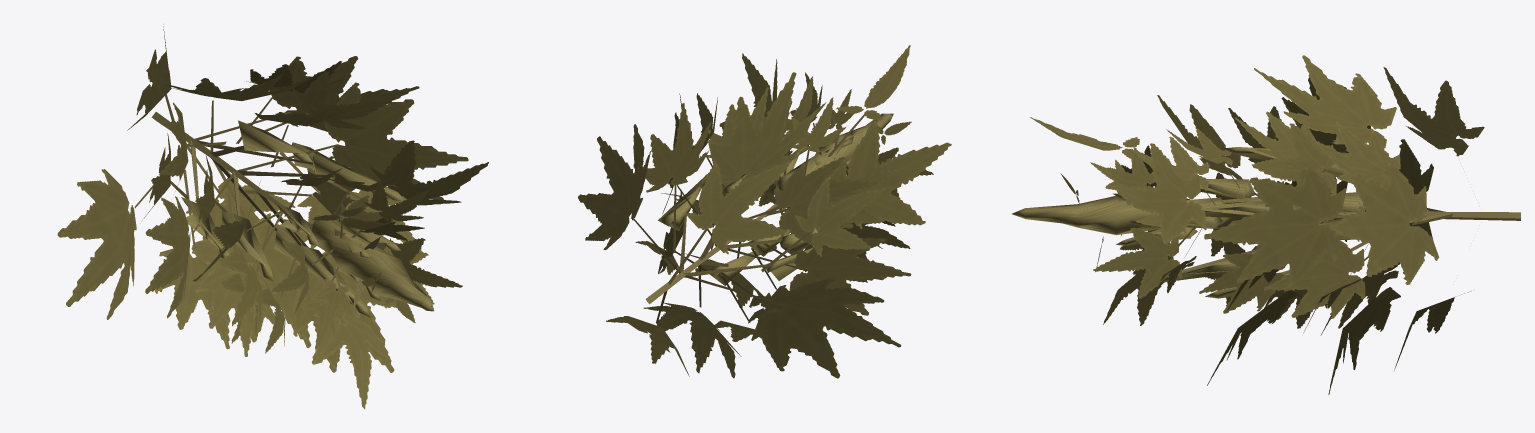
File: p_tree_flowering_c2_cards.obj
3 views of the same model, side by side, from view 1: azimuth 30°, elevation 25°; view 2: azimuth 150°, elevation 25°; view 3: azimuth 270°, elevation 25° (orthographic). The views are drawn at different scales.
Bounding box in the file's own units: 1.63 × 1.38 × 1.8.
Materials: 1 (1 with a texture image).
